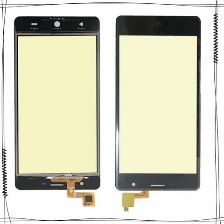phone: (112, 12, 205, 195), (10, 13, 104, 194)
